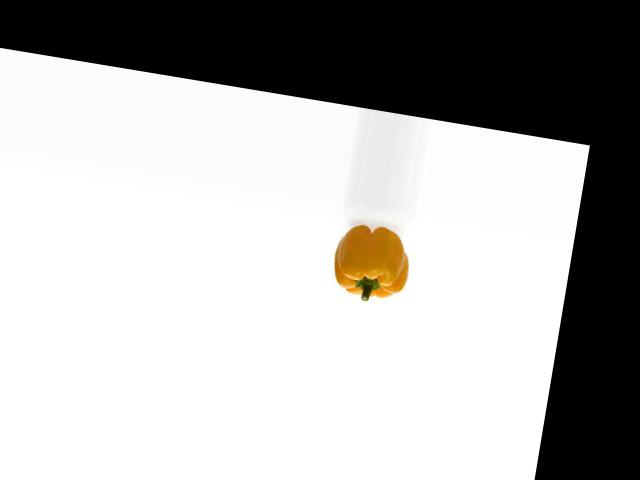bell_pepper: (328, 218, 420, 310)
